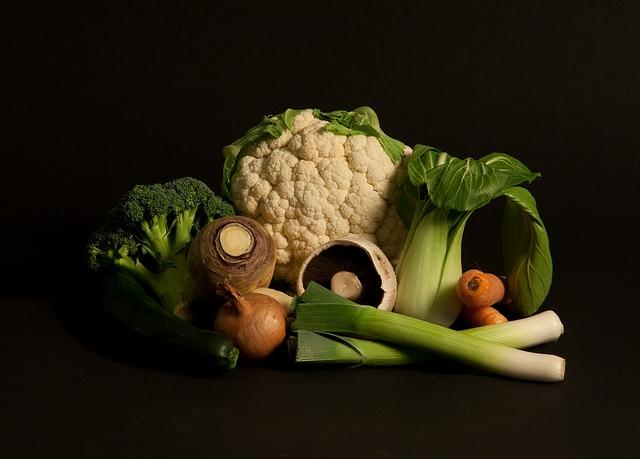broccoli: (85, 178, 235, 322)
carrot: (456, 270, 512, 308), (460, 303, 508, 328)
cauliflower: (221, 106, 413, 298)
mushroom: (296, 237, 396, 312)
onion: (214, 278, 288, 358)
